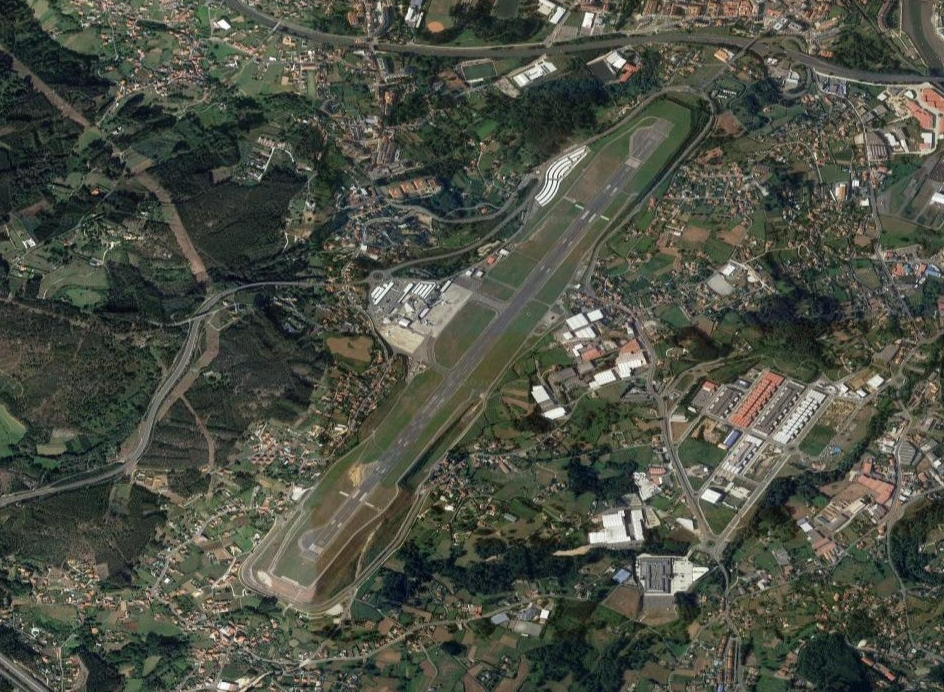airport: (295, 115, 677, 565)
motorway: (82, 423, 150, 488), (730, 28, 816, 78), (179, 283, 228, 356), (142, 355, 194, 422), (814, 60, 943, 85), (224, 1, 318, 34), (1, 475, 84, 506), (316, 29, 420, 53), (420, 39, 524, 63), (522, 33, 626, 57), (624, 28, 728, 52), (1, 647, 55, 692), (229, 272, 309, 299), (660, 397, 678, 467), (675, 466, 701, 511)
